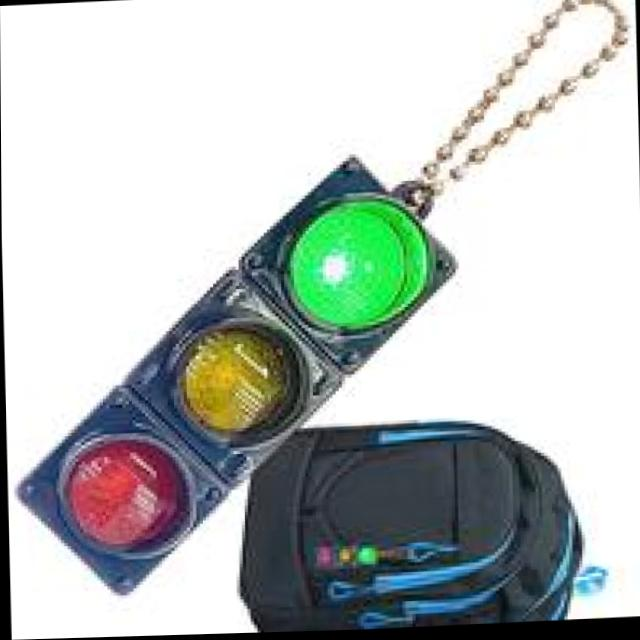green_light: (268, 164, 478, 358)
